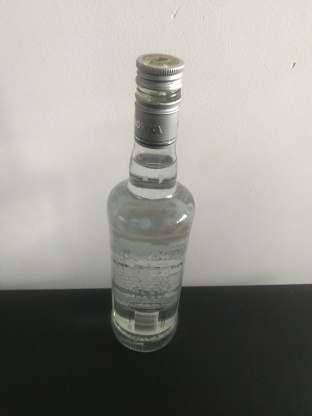nakretka: (132, 50, 185, 149)
